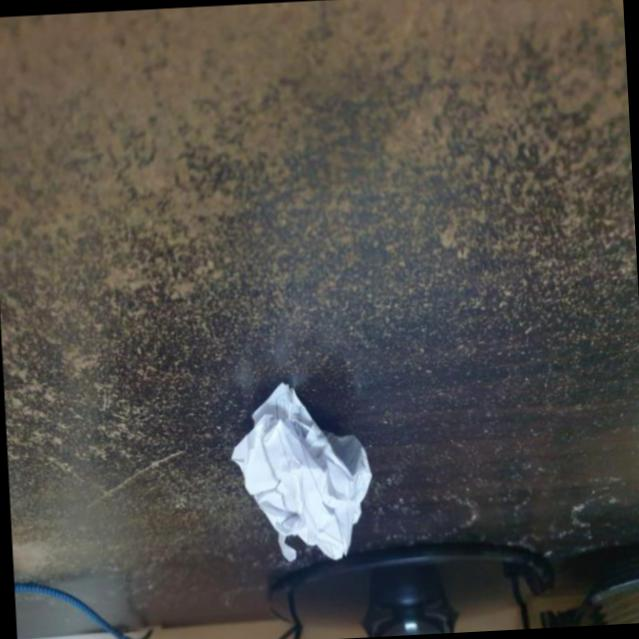cardboard paper: (233, 384, 372, 562)
